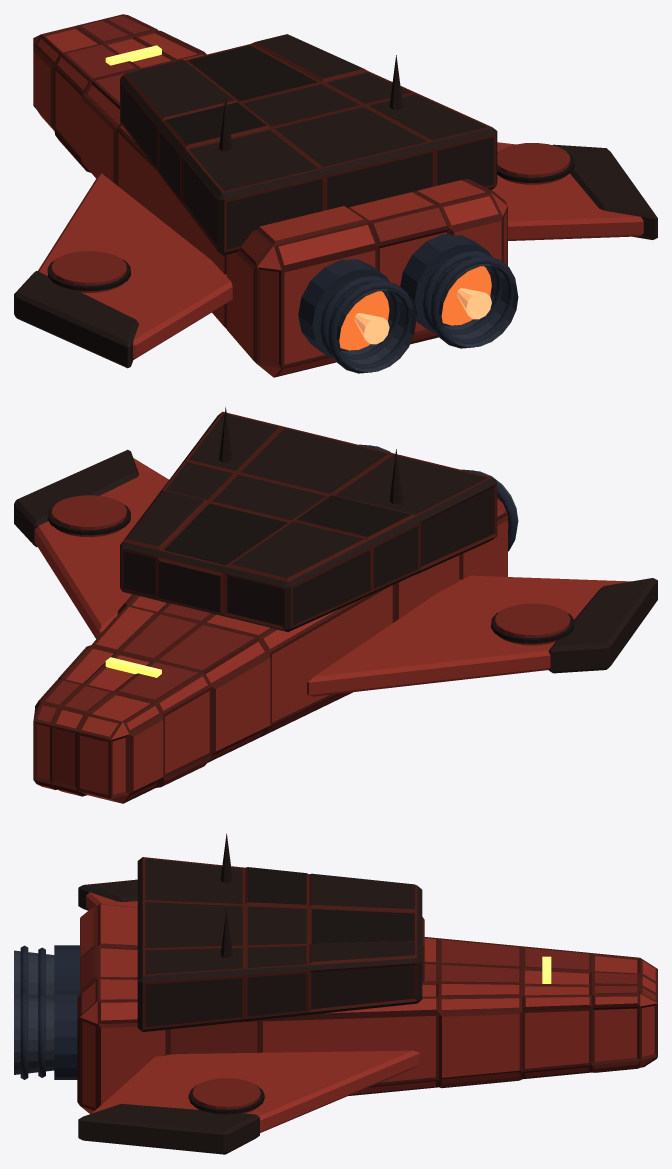
File: raider.glb
3 views of the same model, one above another, from view 1: azimuth 30°, elevation 25°; view 2: azimuth 150°, elevation 25°; view 3: azimuth 270°, elevation 25° (orthographic). The views are drawn at different scales.
Visible parts, largest first — view 1: raider_mesh; view 2: raider_mesh; view 3: raider_mesh.
Boxes of the visible parts, <box> form: raider_mesh: <box>14,14,657,377</box>; raider_mesh: <box>14,407,657,803</box>; raider_mesh: <box>14,833,657,1154</box>.
Size of the model in its own units: 6.98 by 2.51 by 7.24.
